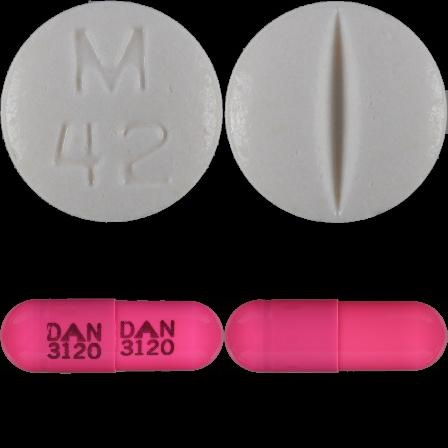0179-0165: (0, 0, 224, 224)
